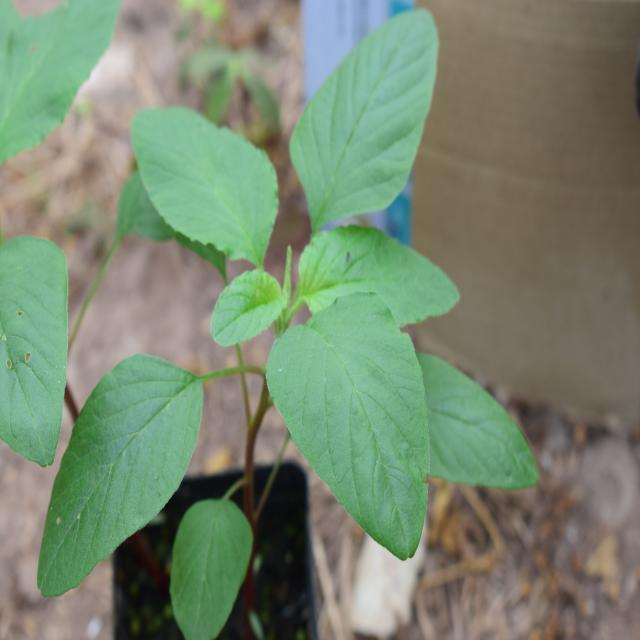pigweed: (60, 28, 502, 576)
